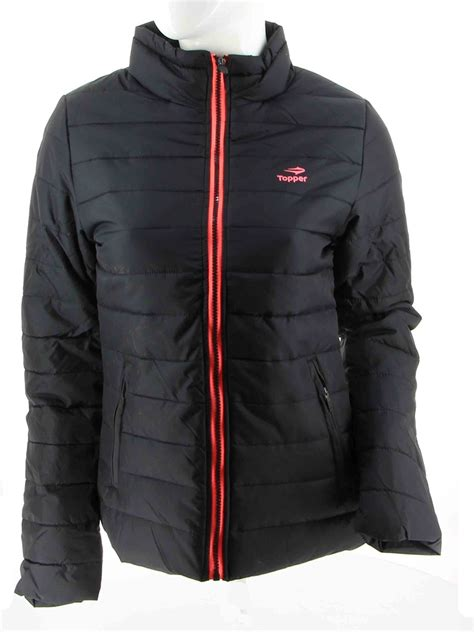nylon: (21, 23, 443, 607)
